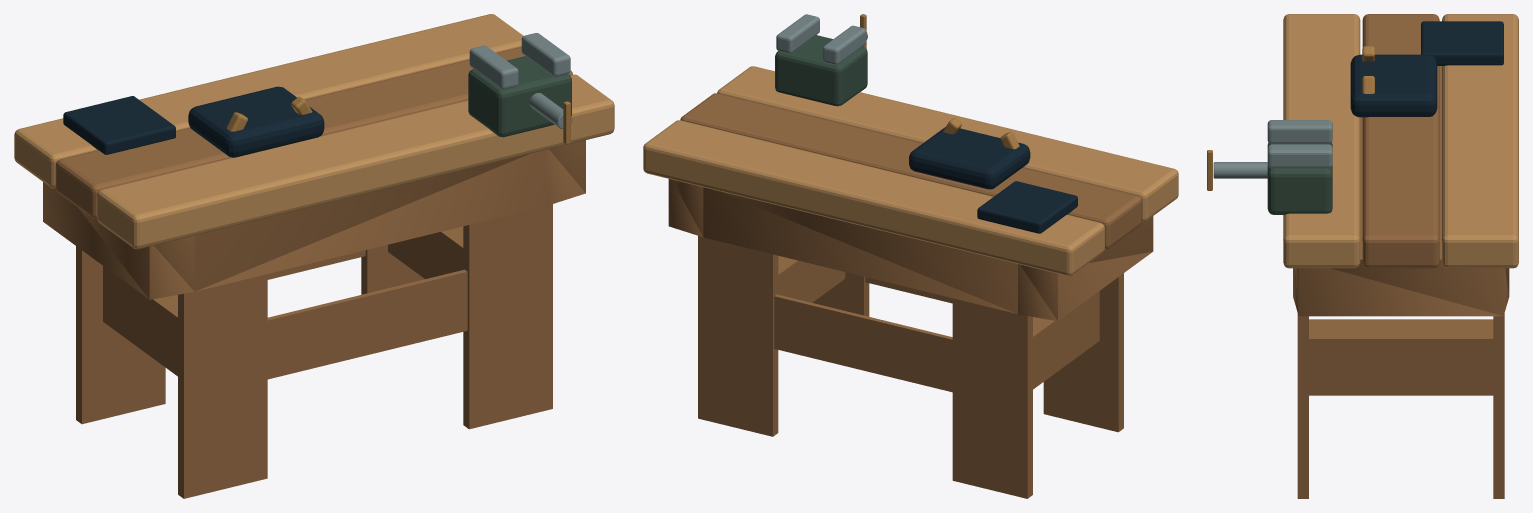
Rendered from WORKSHOP_BENCH.hi.glb.
The picture shows the model from 3 angles, left to right: view 1: azimuth 30°, elevation 25°; view 2: azimuth 150°, elevation 25°; view 3: azimuth 270°, elevation 25°; orthographic projection. The views are drawn at different scales.
Visible parts, largest first — view 1: Body_Mesh; view 2: Body_Mesh; view 3: Body_Mesh.
Part boxes in pixels (box(x1,y1,x2,y2)): Body_Mesh: box(14, 14, 614, 498); Body_Mesh: box(643, 14, 1178, 498); Body_Mesh: box(1207, 14, 1518, 498).
Bounding box in the file's own units: 1.48 × 1.07 × 0.8645.
Materials: 1 (1 with a texture image).
